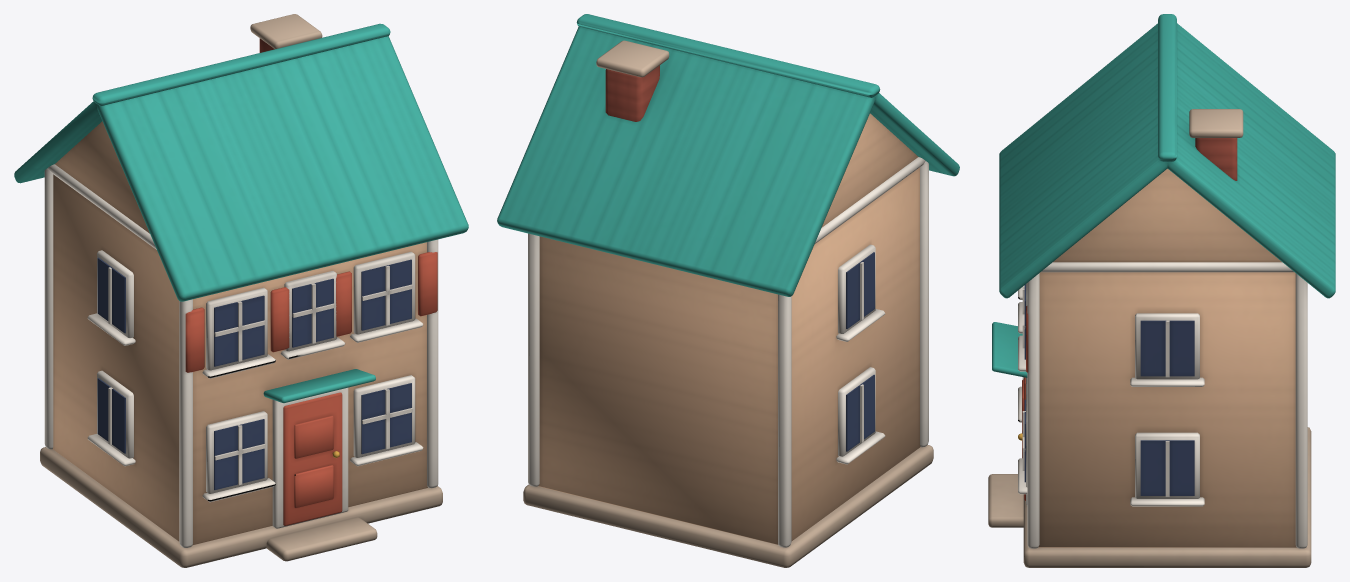
File: StartKit_HouseB_Peach.fbx
3 views of the same model, side by side, from view 1: azimuth 30°, elevation 25°; view 2: azimuth 150°, elevation 25°; view 3: azimuth 270°, elevation 25° (orthographic). The views are drawn at different scales.
Visible parts, largest first — view 1: HouseB_Peach; view 2: HouseB_Peach; view 3: HouseB_Peach.
Part boxes in pixels (x1,y1,x2,y2): HouseB_Peach: (14,14,468,567); HouseB_Peach: (497,14,959,567); HouseB_Peach: (988,14,1335,567).
Size of the model in its own units: 4.96 by 6.9 by 5.14.
1 material, 1 textured.
